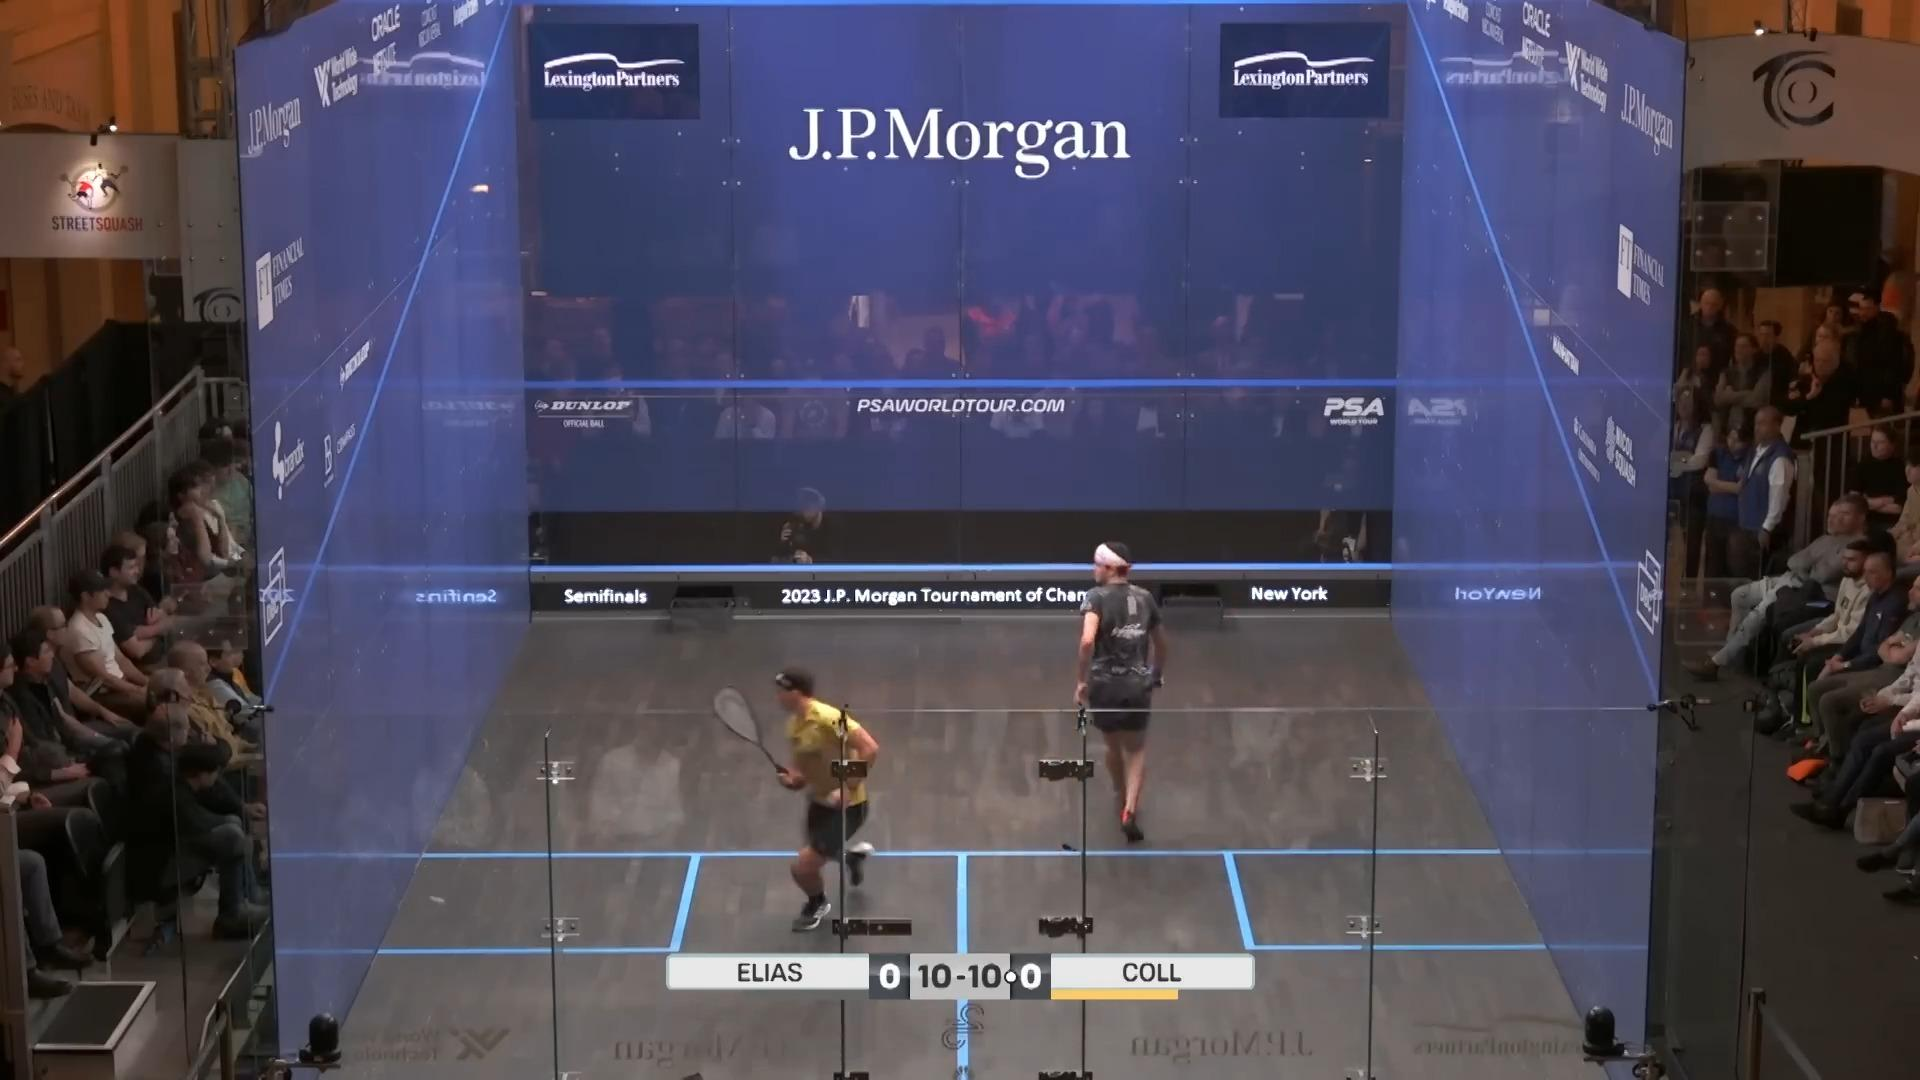Racket: (704, 679, 786, 774)
